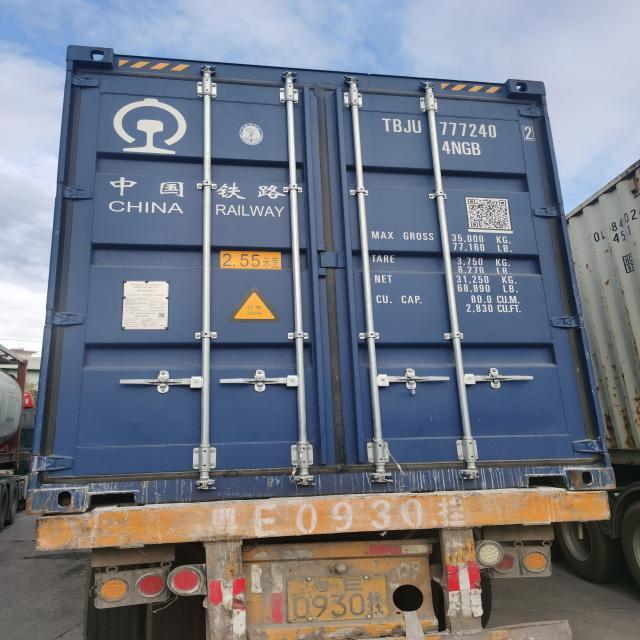ISO: (442, 138, 485, 158)
container_number: (381, 115, 544, 138)
